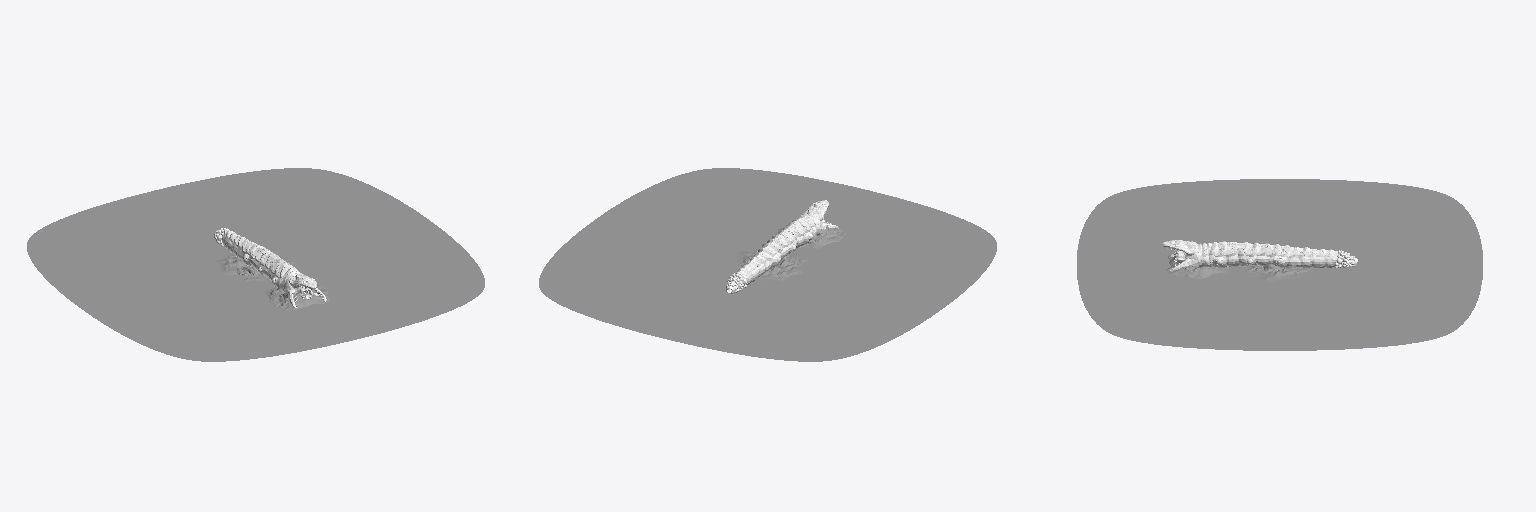
3 views of the same model, side by side, from view 1: azimuth 30°, elevation 25°; view 2: azimuth 150°, elevation 25°; view 3: azimuth 270°, elevation 25° (orthographic).
Visible parts, largest first — view 1: 07-Default, GIANT_WORM, UniqueID_673, Material#0; view 2: 07-Default, GIANT_WORM, UniqueID_673; view 3: 07-Default, GIANT_WORM, UniqueID_673, Material#0.
Part boxes in pixels (x1,y1,x2,y2): 07-Default: (27,168,484,361); GIANT_WORM: (221,230,326,307); UniqueID_673: (212,250,296,281); Material#0: (264,285,329,309); 07-Default: (539,168,996,361); GIANT_WORM: (737,200,838,284); UniqueID_673: (727,246,807,282); 07-Default: (1077,179,1482,350); GIANT_WORM: (1162,240,1338,271); UniqueID_673: (1240,264,1316,281); Material#0: (1166,255,1228,278).
Size of the model in its own units: 4131 by 359 by 4131.
3 materials, 1 textured.